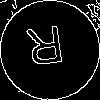R: (25, 25, 67, 76)
